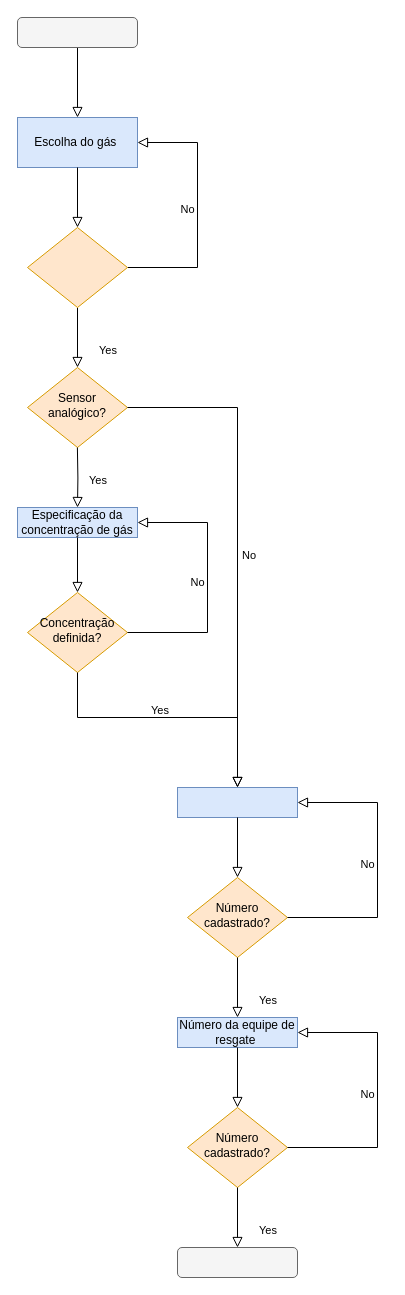
Some shapes in this 405 by 1295 pixel diagram are drawn without their labels. Here are the shapes that lost their labels. From the top down, the centre of each, then its label:
At pixel 77 32: "Configuração do controlador".
At pixel 77 267: "Gás escolhido?".
At pixel 237 802: "Número da equipe de segurança".
At pixel 237 1262: "Fim da configuração".
